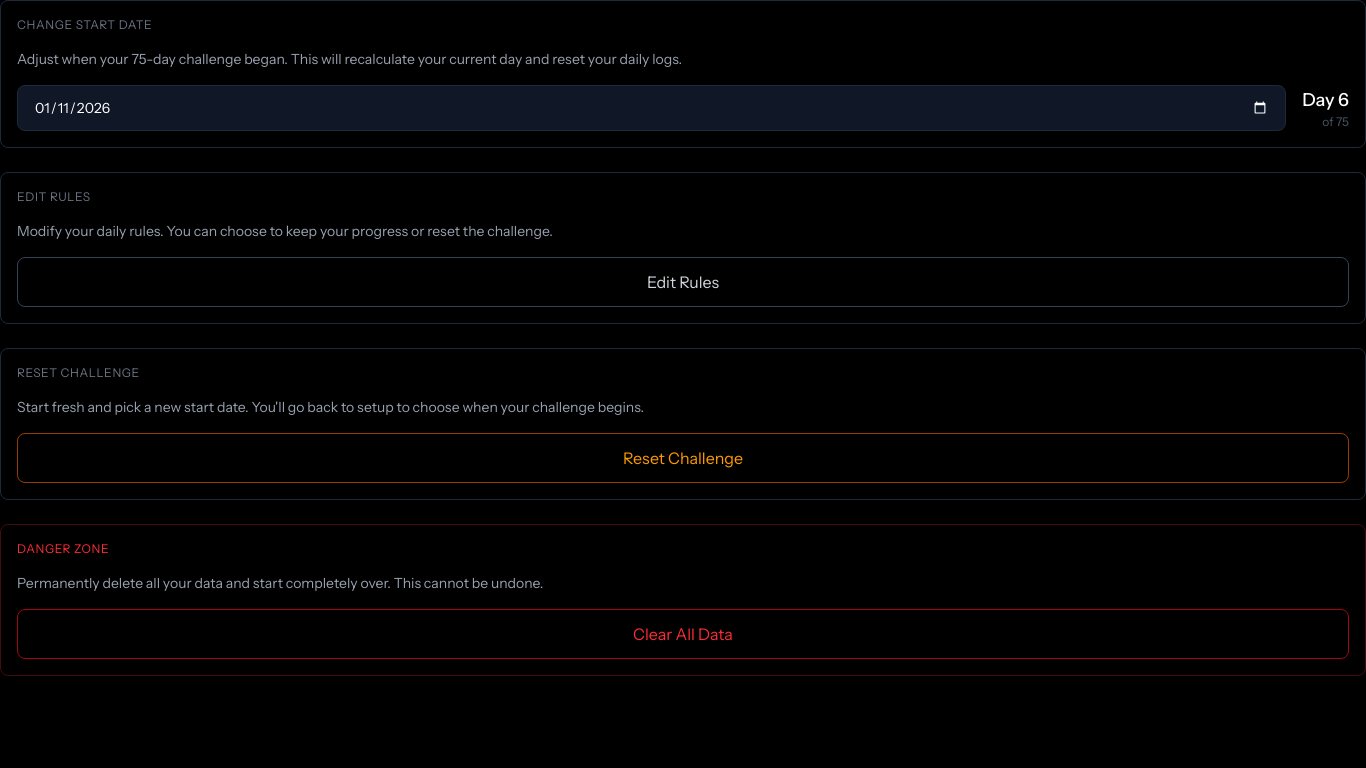
Scenario: SettingsTab › Edit Rules › opens edit rules modal when button clicked
Click the button "Edit Rules" at [683, 282], box left=17, top=257, right=1349, bottom=307
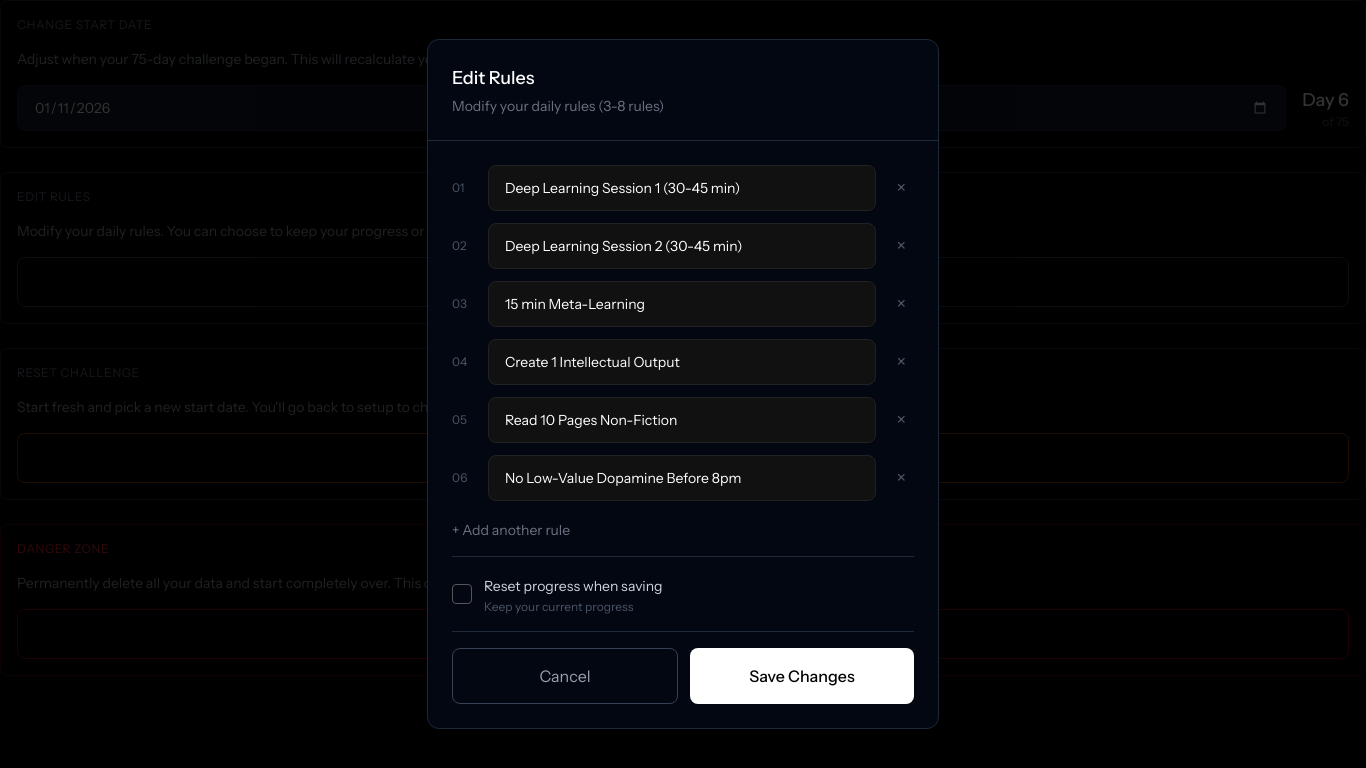
Check: the text "Modify your daily rules (3-8 rules)" is shown, box left=452, top=97, right=664, bottom=115
